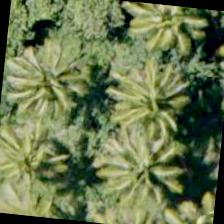Kelapa_Sawit: (103, 55, 202, 154), (91, 124, 190, 223), (2, 40, 100, 139), (0, 108, 82, 207), (114, 0, 210, 67)
